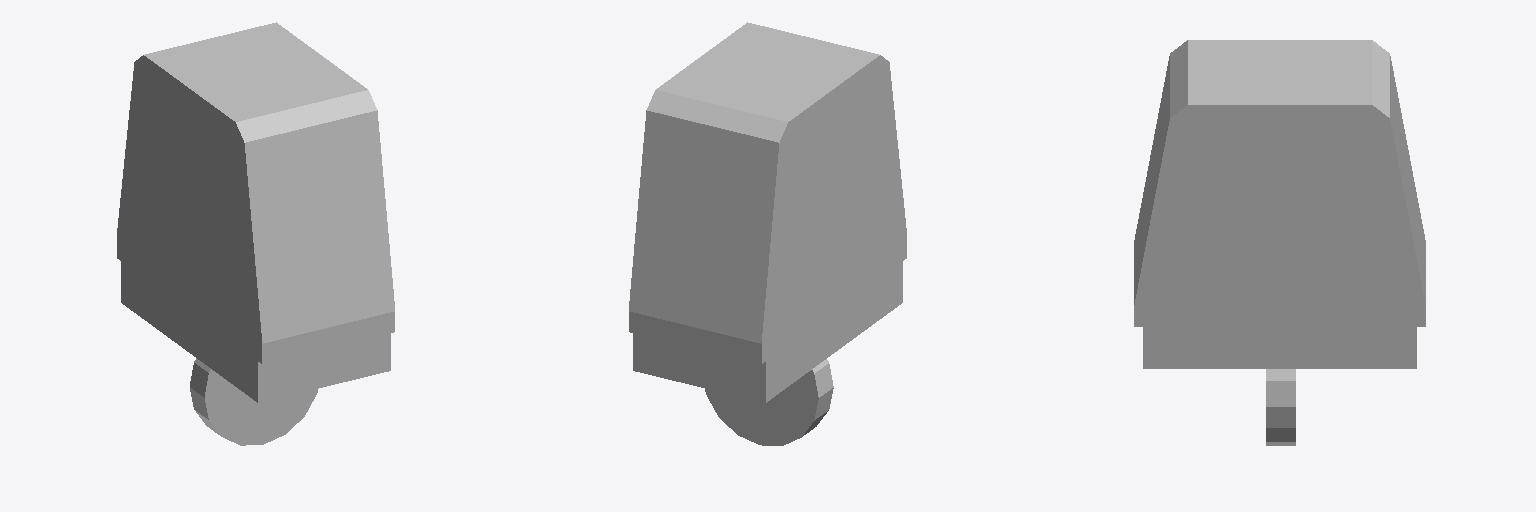
The model's file is Cuerpo.obj.
The picture shows the model from 3 angles: view 1: azimuth 30°, elevation 25°; view 2: azimuth 150°, elevation 25°; view 3: azimuth 270°, elevation 25°; orthographic projection.
Visible parts, largest first — view 1: Cuerpo4:pasted__pasted__body3; view 2: Cuerpo4:pasted__pasted__body3; view 3: Cuerpo4:pasted__pasted__body3.
Boxes of the visible parts, <box> form: Cuerpo4:pasted__pasted__body3: <box>117,22,394,445</box>; Cuerpo4:pasted__pasted__body3: <box>629,22,906,445</box>; Cuerpo4:pasted__pasted__body3: <box>1134,40,1425,445</box>.
Size of the model in its own units: 0.7995 by 2.11 by 1.52.